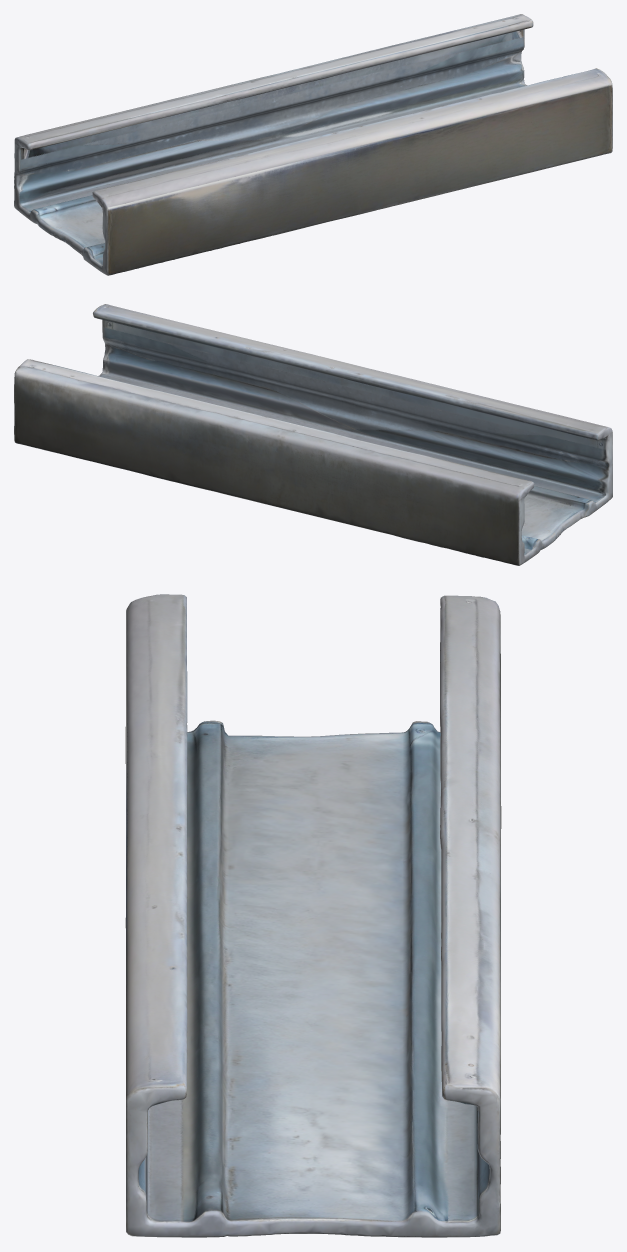
3 renders of one model, top to bottom at view 1: azimuth 30°, elevation 25°; view 2: azimuth 150°, elevation 25°; view 3: azimuth 270°, elevation 25°, orthographic. The views are drawn at different scales.
Bounding box in the file's own units: 2.01 × 0.2896 × 0.6441.
1 material, 1 textured.
